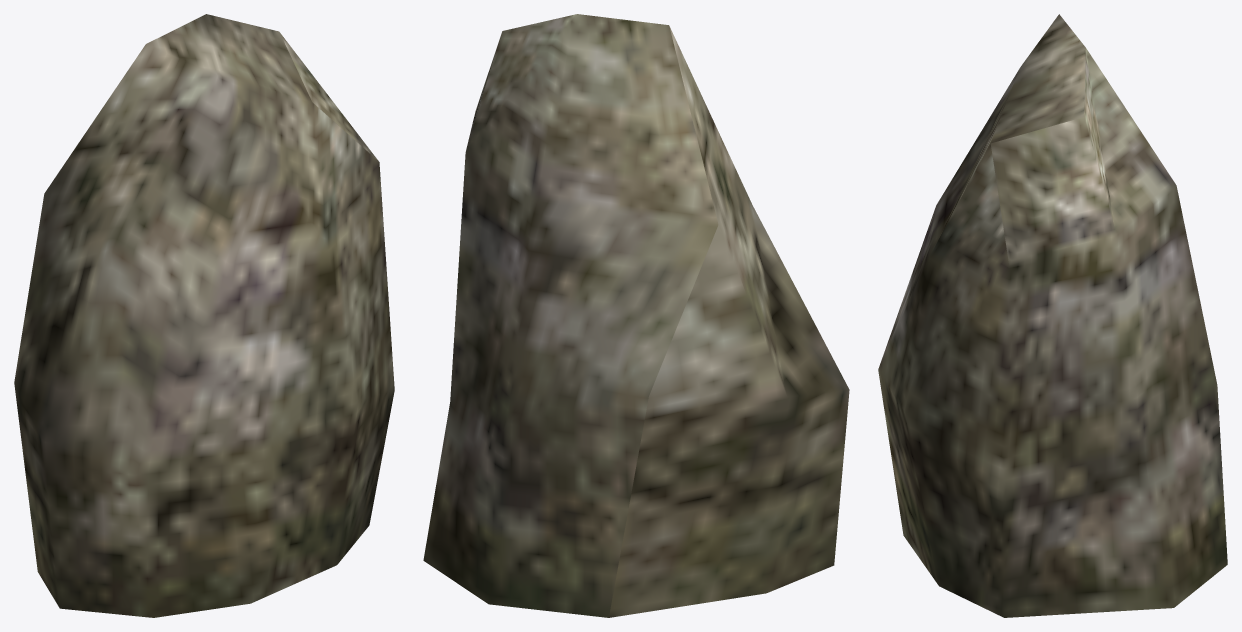
The model's file is general_obj_stone08.glb.
3 renders of one model, left to right at view 1: azimuth 30°, elevation 25°; view 2: azimuth 150°, elevation 25°; view 3: azimuth 270°, elevation 25°, orthographic. The views are drawn at different scales.
Parts seen in each view (by area): view 1: Sphere01; view 2: Sphere01; view 3: Sphere01.
Part boxes in pixels (x1,y1,x2,y2): Sphere01: [14, 14, 394, 617]; Sphere01: [423, 14, 849, 617]; Sphere01: [878, 14, 1227, 617].
Size of the model in its own units: 1.34 by 1.83 by 1.13.
1 material, 1 textured.
